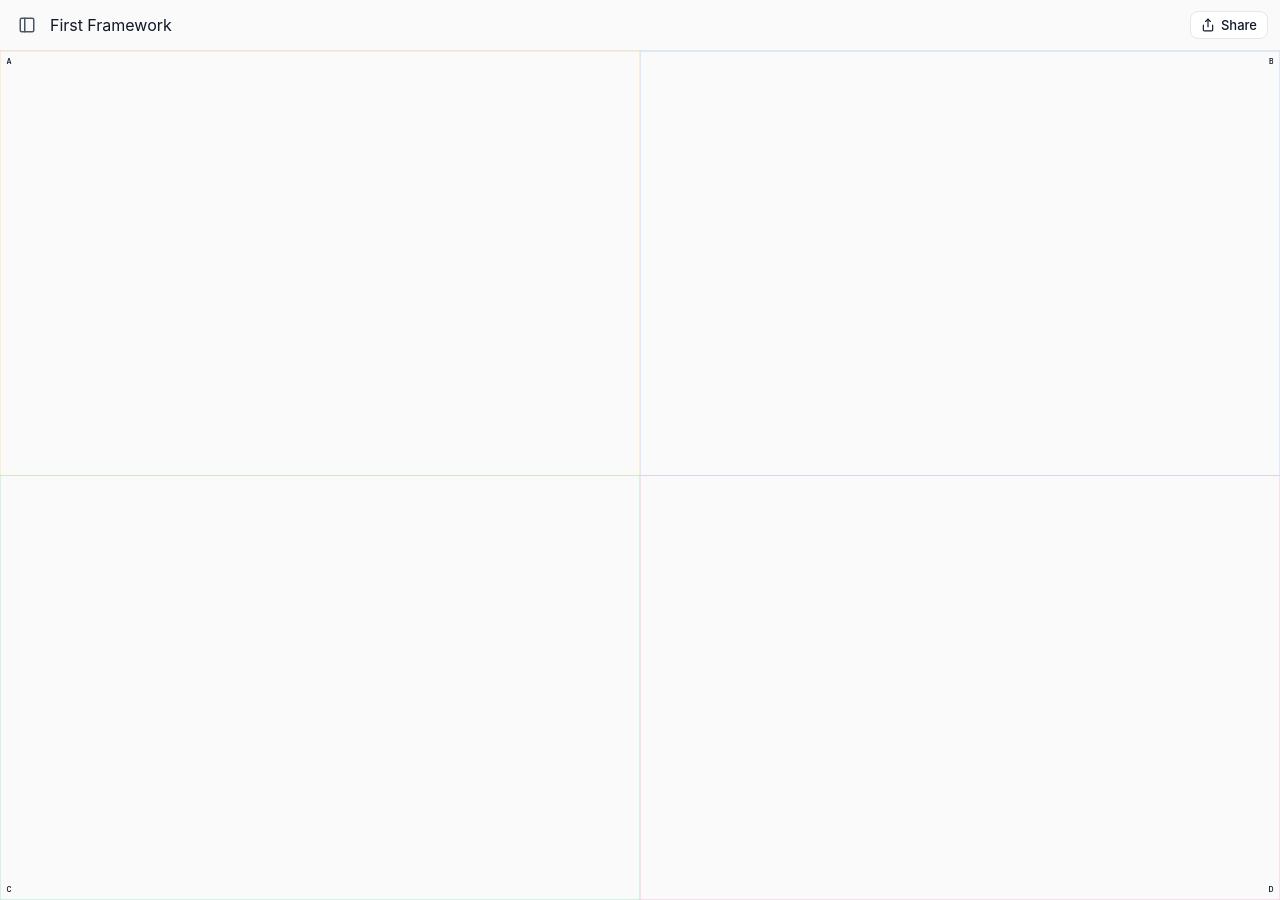
Scenario: App › mobile drawer dismissal on navigation (BUG-014) › dismisses the drawer when a framework is selected
Click the button named "open sidebar": {"x": 27, "y": 25} [12,10,42,40]
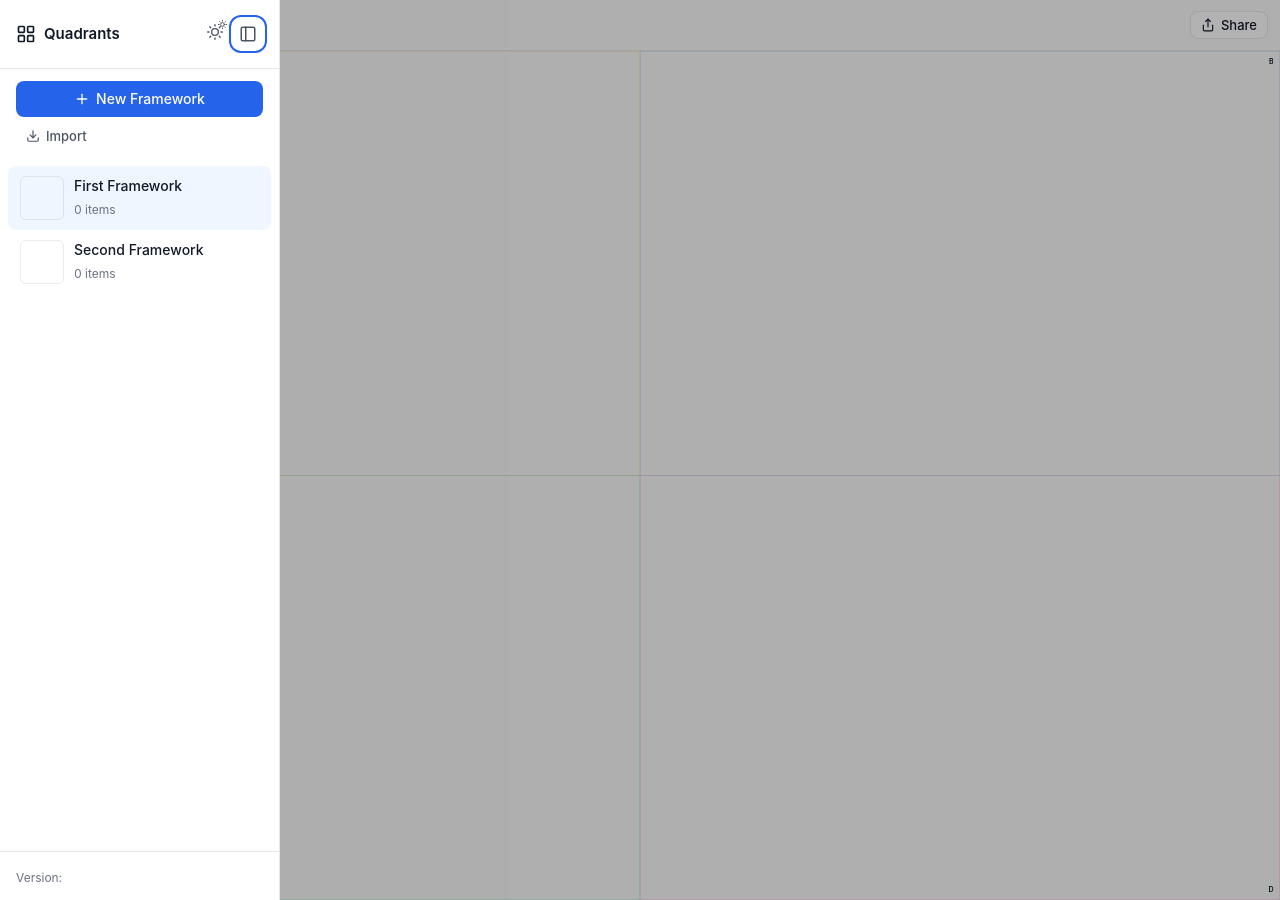
Click the button "Second Framework 0 items": {"x": 126, "y": 262} [8,230,243,294]
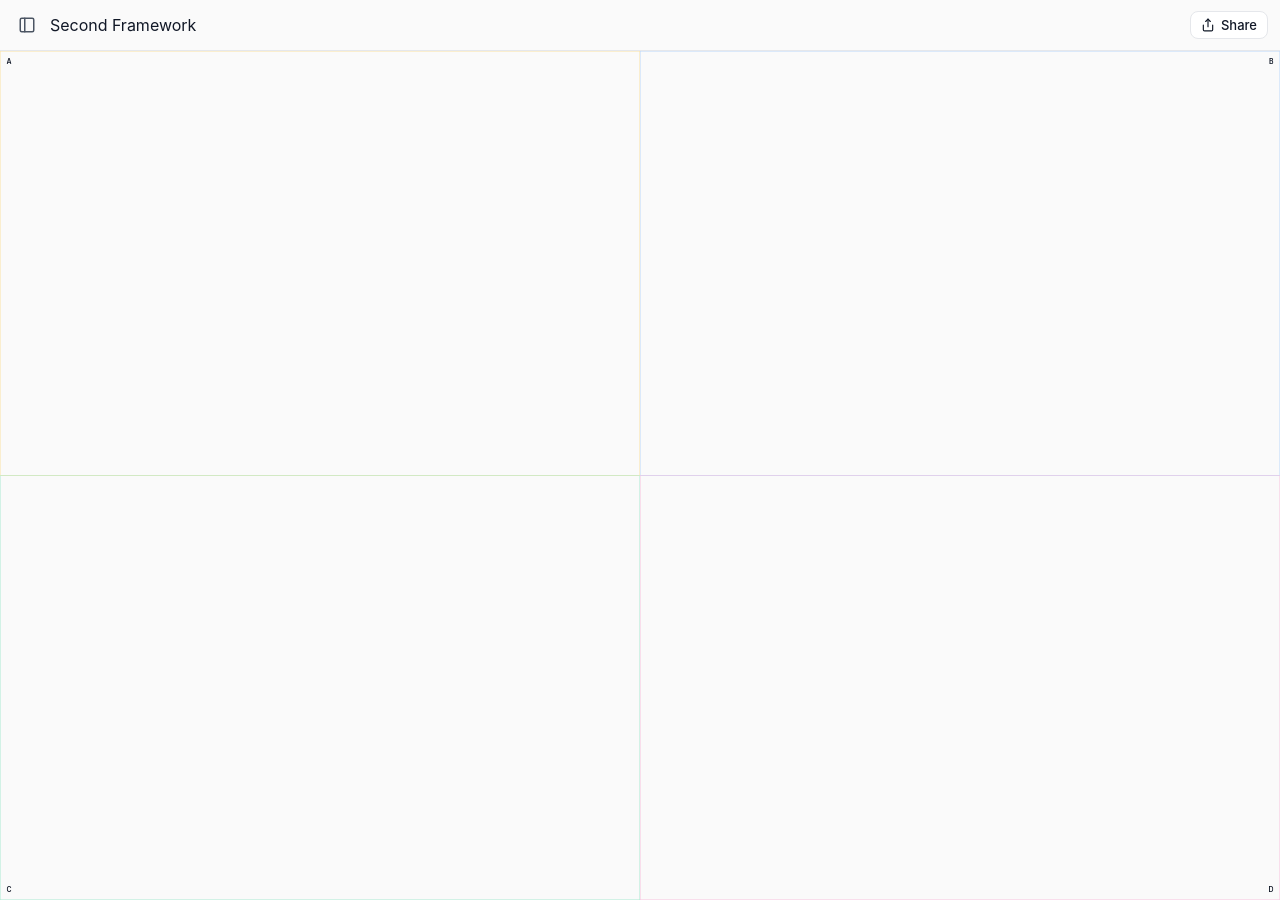
Check: the element with test id "sidebar-backdrop" is gone
Check: the heading "Second Framework" is shown, box [50,13,196,37]
